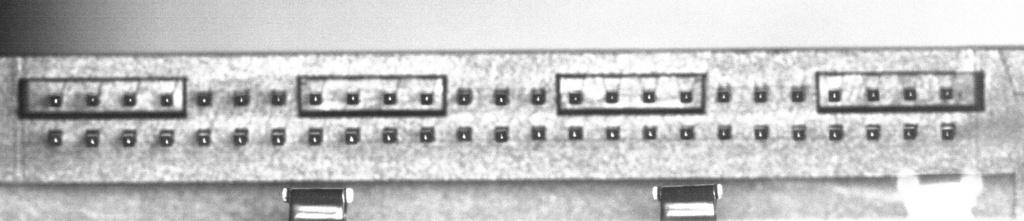pin_ok: (940, 122, 957, 140), (456, 87, 473, 105), (493, 87, 510, 105), (827, 124, 844, 141), (902, 123, 919, 140), (232, 128, 249, 145), (270, 89, 287, 106), (530, 87, 547, 104), (195, 128, 211, 146), (158, 129, 174, 147), (84, 129, 100, 147), (121, 129, 137, 147), (419, 126, 435, 143), (307, 127, 323, 144), (270, 128, 286, 145), (196, 90, 213, 106), (232, 90, 249, 106), (791, 124, 807, 140), (493, 126, 509, 142), (382, 127, 398, 143), (790, 86, 806, 102), (47, 129, 63, 145), (716, 85, 731, 102), (866, 124, 881, 140), (754, 124, 769, 140), (717, 124, 732, 140), (530, 125, 546, 140), (456, 126, 472, 141), (642, 125, 658, 140), (344, 128, 359, 144), (753, 86, 768, 102), (567, 90, 583, 105), (680, 125, 695, 140), (568, 125, 583, 140), (159, 92, 174, 107), (605, 126, 621, 140), (419, 91, 435, 105), (902, 86, 917, 100), (865, 87, 880, 101), (827, 88, 842, 102), (605, 88, 619, 103), (940, 86, 954, 100), (383, 90, 397, 104), (85, 92, 99, 106), (123, 92, 137, 106), (642, 89, 656, 103), (48, 93, 62, 107), (308, 92, 322, 105), (346, 91, 360, 104), (680, 89, 693, 103)
